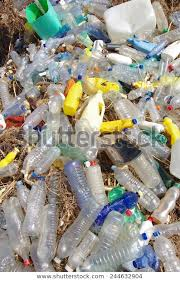garbage: (1, 1, 180, 273)
